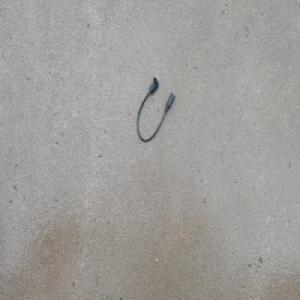Wire: (136, 75, 176, 143)
